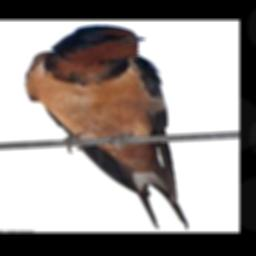Swallow: (22, 24, 191, 230)
